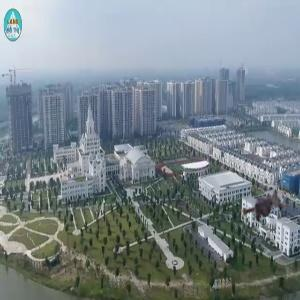drone: (234, 181, 295, 242)
